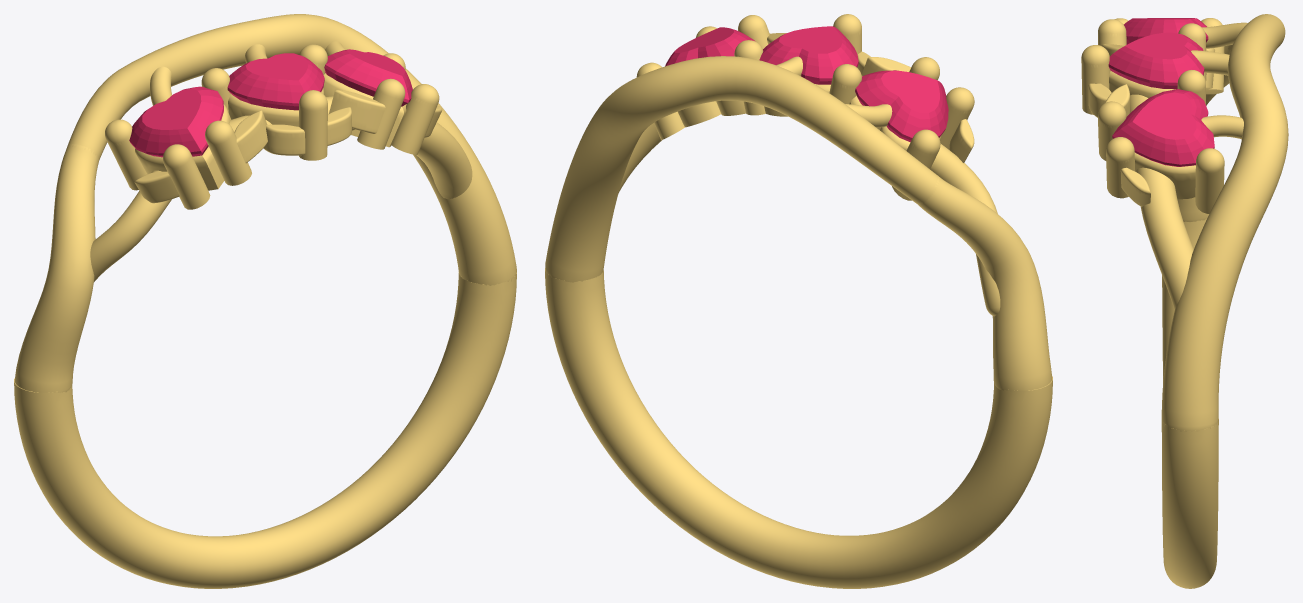
The model's file is BrettYGrubyvinering_blender.glb.
3 views of the same model, side by side, from view 1: azimuth 30°, elevation 25°; view 2: azimuth 150°, elevation 25°; view 3: azimuth 270°, elevation 25° (orthographic). The views are drawn at different scales.
Parts seen in each view (by area): view 1: Brett YG for 3d model, Brett ruby for 3d model; view 2: Brett YG for 3d model, Brett ruby for 3d model; view 3: Brett YG for 3d model, Brett ruby for 3d model.
Part boxes in pixels (<box>): Brett YG for 3d model: <box>14,14,516,588</box>; Brett ruby for 3d model: <box>129,49,412,157</box>; Brett YG for 3d model: <box>545,14,1052,588</box>; Brett ruby for 3d model: <box>665,26,948,142</box>; Brett YG for 3d model: <box>1081,14,1288,588</box>; Brett ruby for 3d model: <box>1108,18,1214,166</box>.
Bounding box in the file's own units: 19.68 × 20.19 × 7.24.
